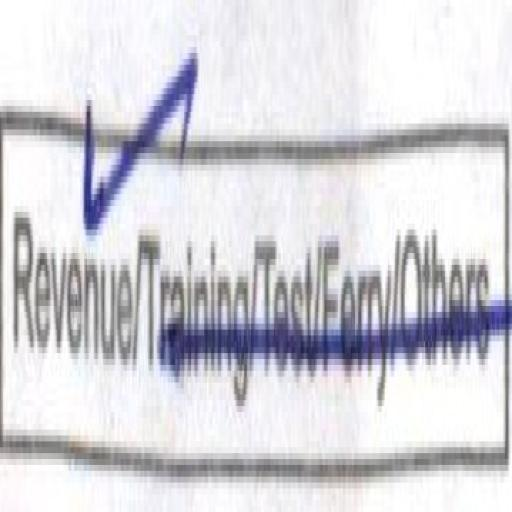check: (2, 16, 137, 454)
